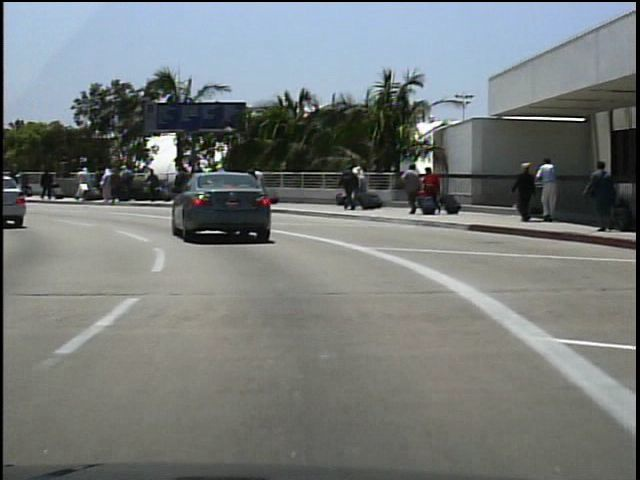person: (584, 159, 619, 233), (535, 156, 564, 228), (513, 159, 539, 226), (400, 162, 424, 218), (339, 163, 359, 214), (423, 164, 443, 212), (248, 160, 269, 199), (40, 166, 58, 202), (19, 167, 36, 205), (12, 164, 25, 201)
